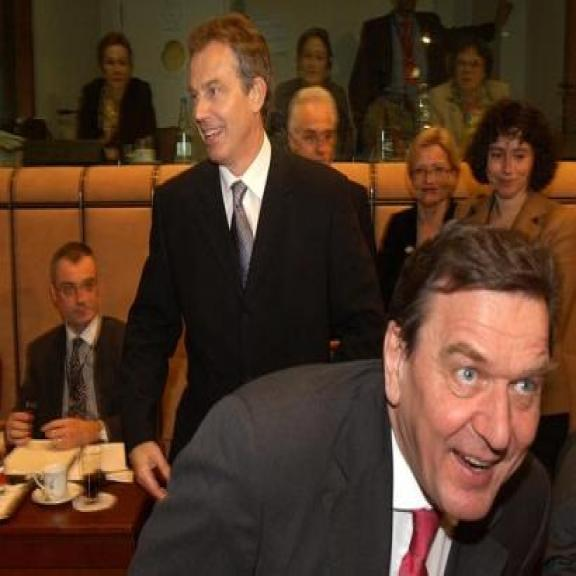face: (381, 266, 547, 532), (188, 41, 266, 164), (284, 94, 339, 171), (47, 258, 100, 328), (488, 129, 530, 203), (407, 150, 455, 208), (296, 36, 343, 83), (448, 45, 487, 93), (102, 41, 138, 84)
